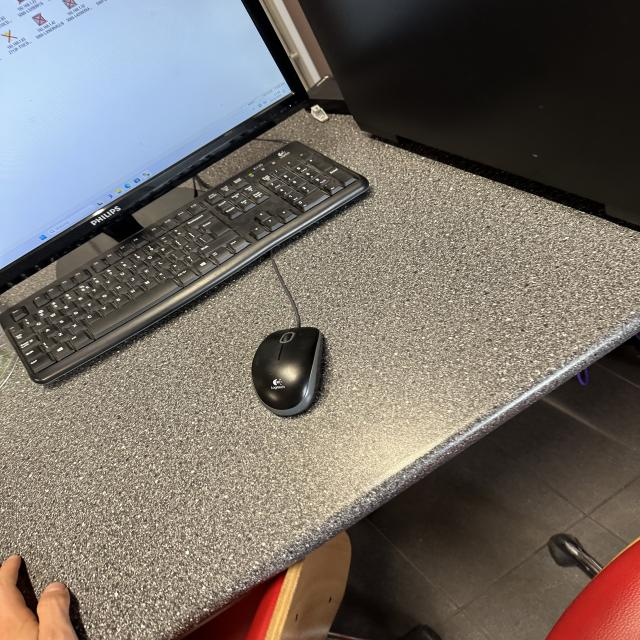mysz: (246, 321, 330, 424)
